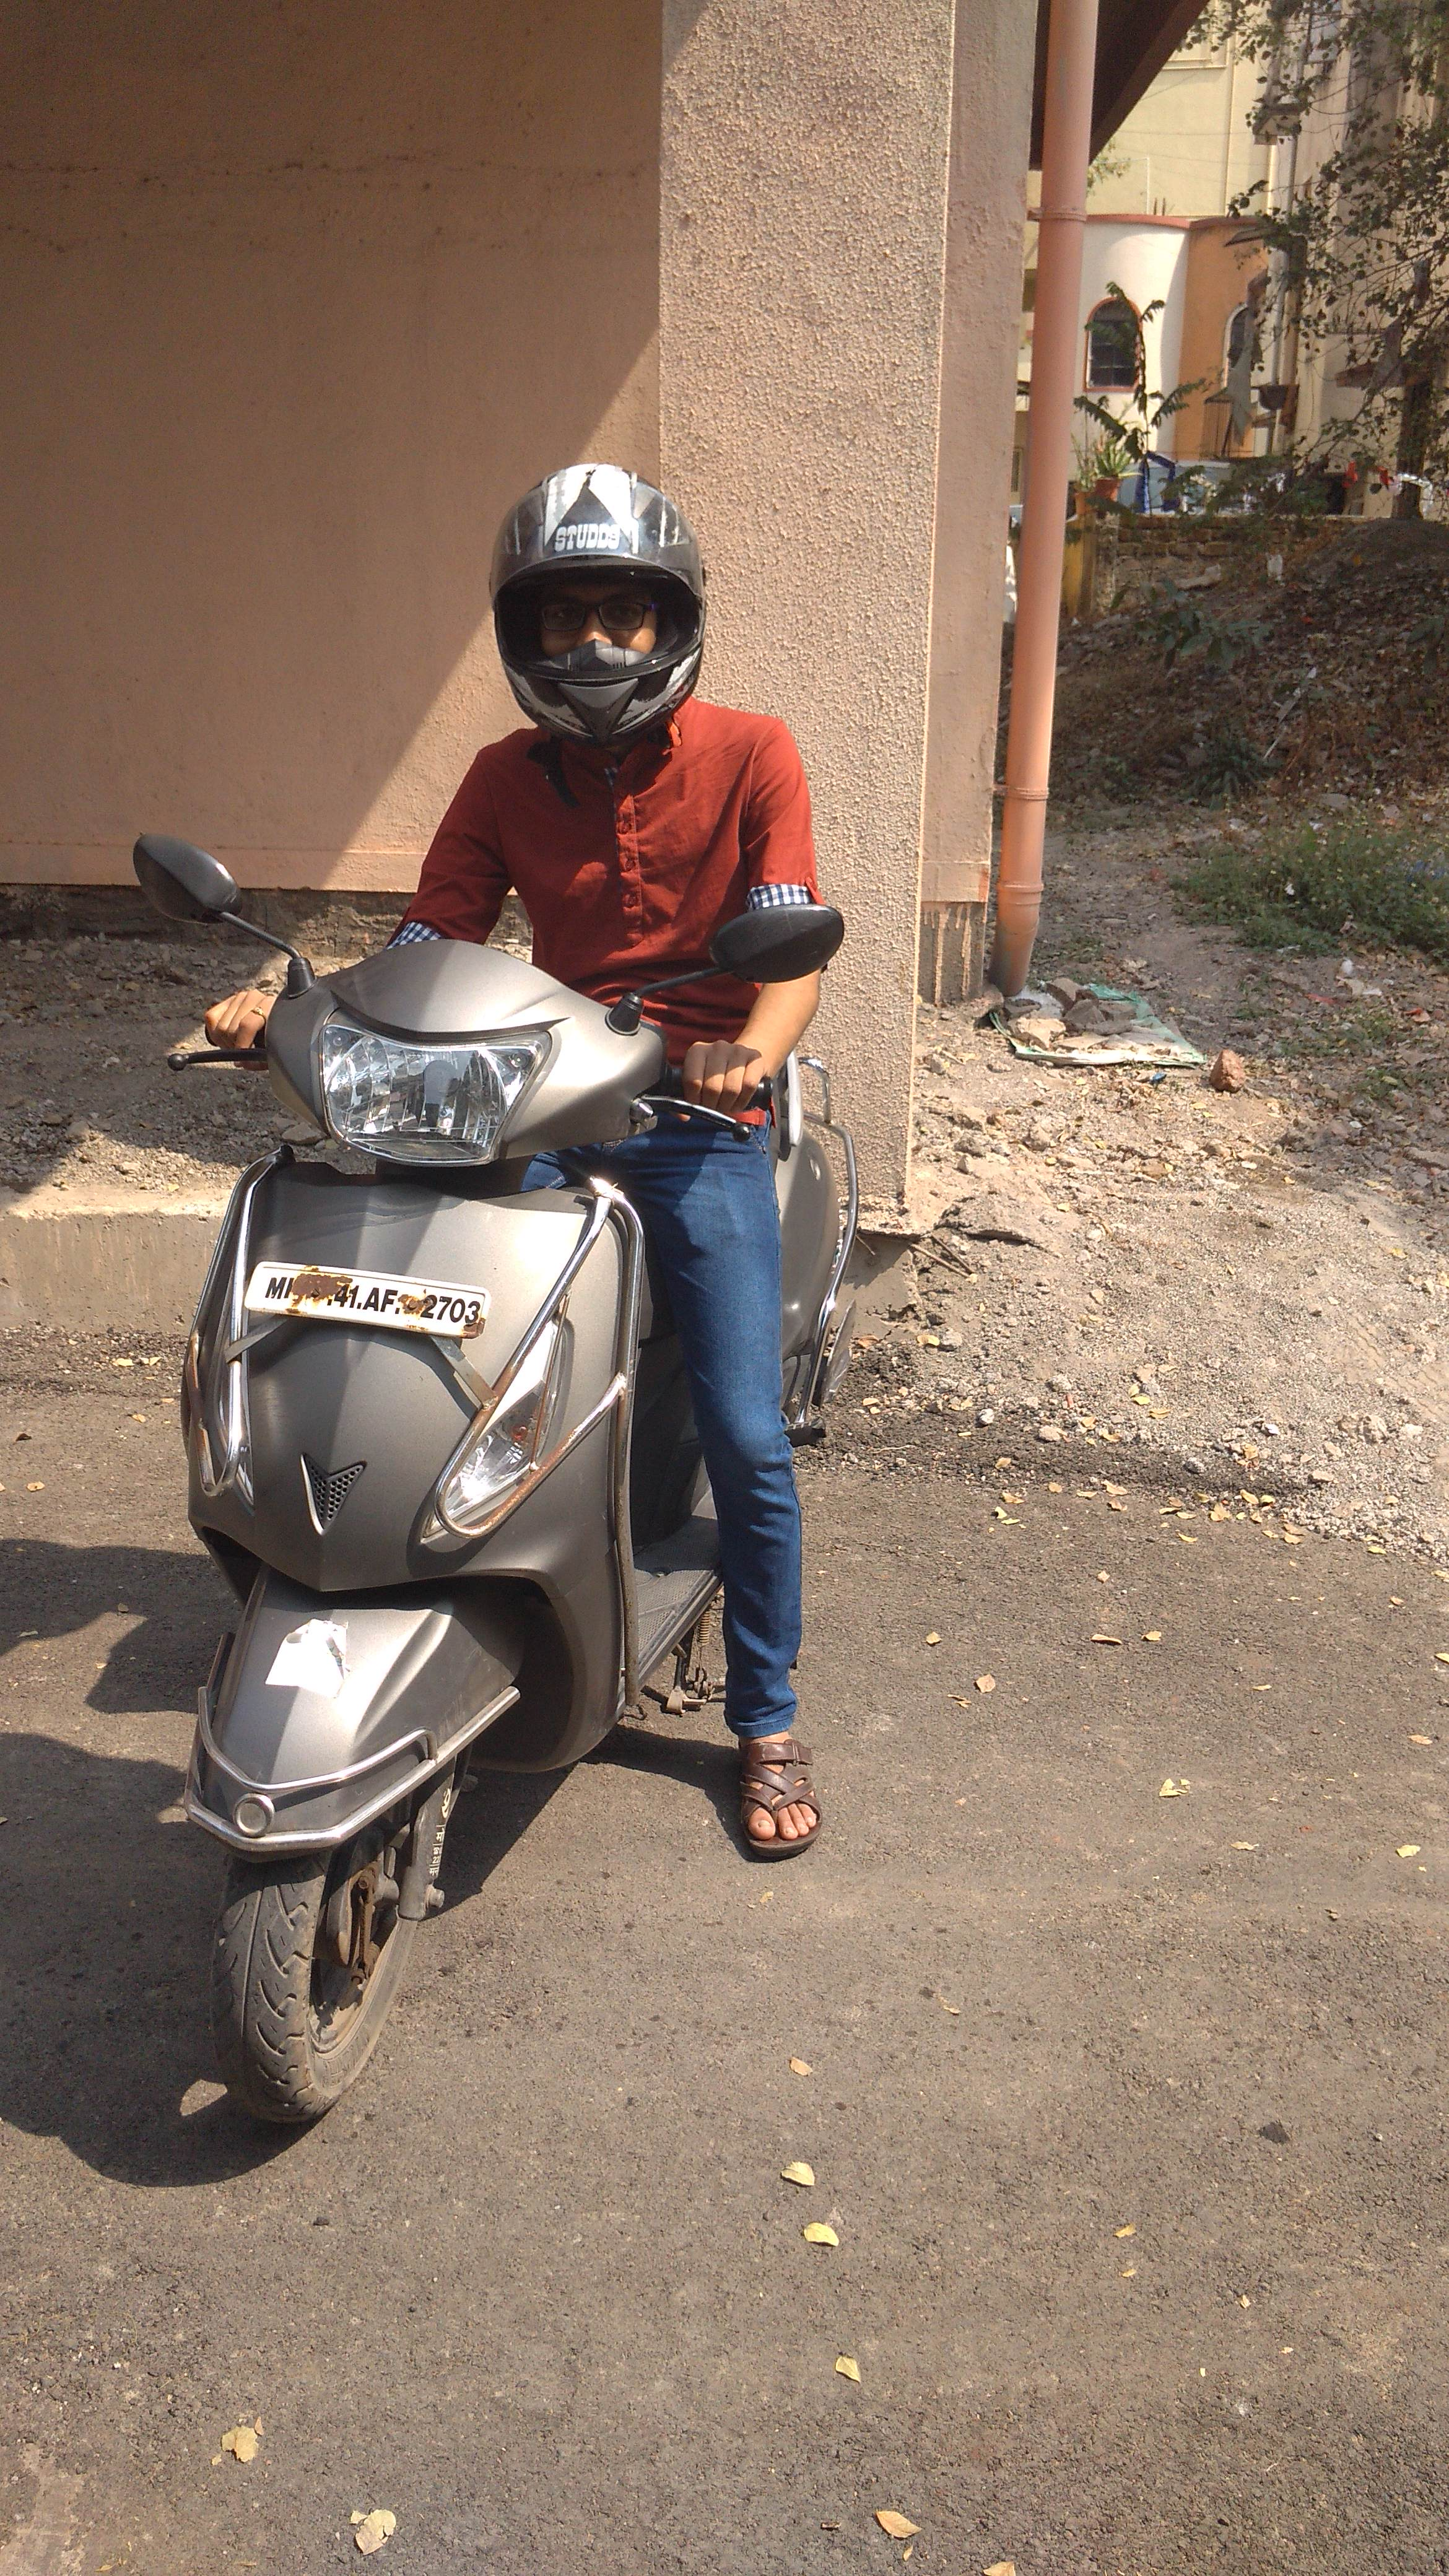helmet: (361, 442, 869, 1437)
